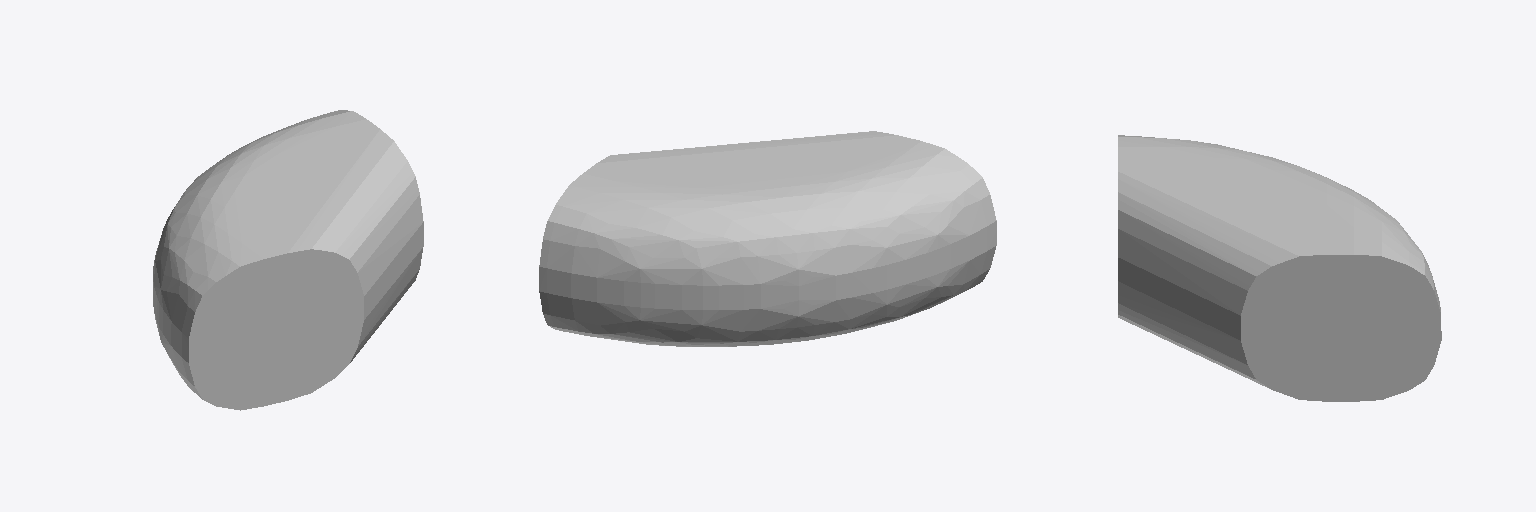
File: wagon_V2_top-handle-original v1_collision_1.obj
The picture shows the model from 3 angles: view 1: azimuth 30°, elevation 25°; view 2: azimuth 150°, elevation 25°; view 3: azimuth 270°, elevation 25°; orthographic projection.
Size of the model in its own units: 5.16 by 2.45 by 4.88.